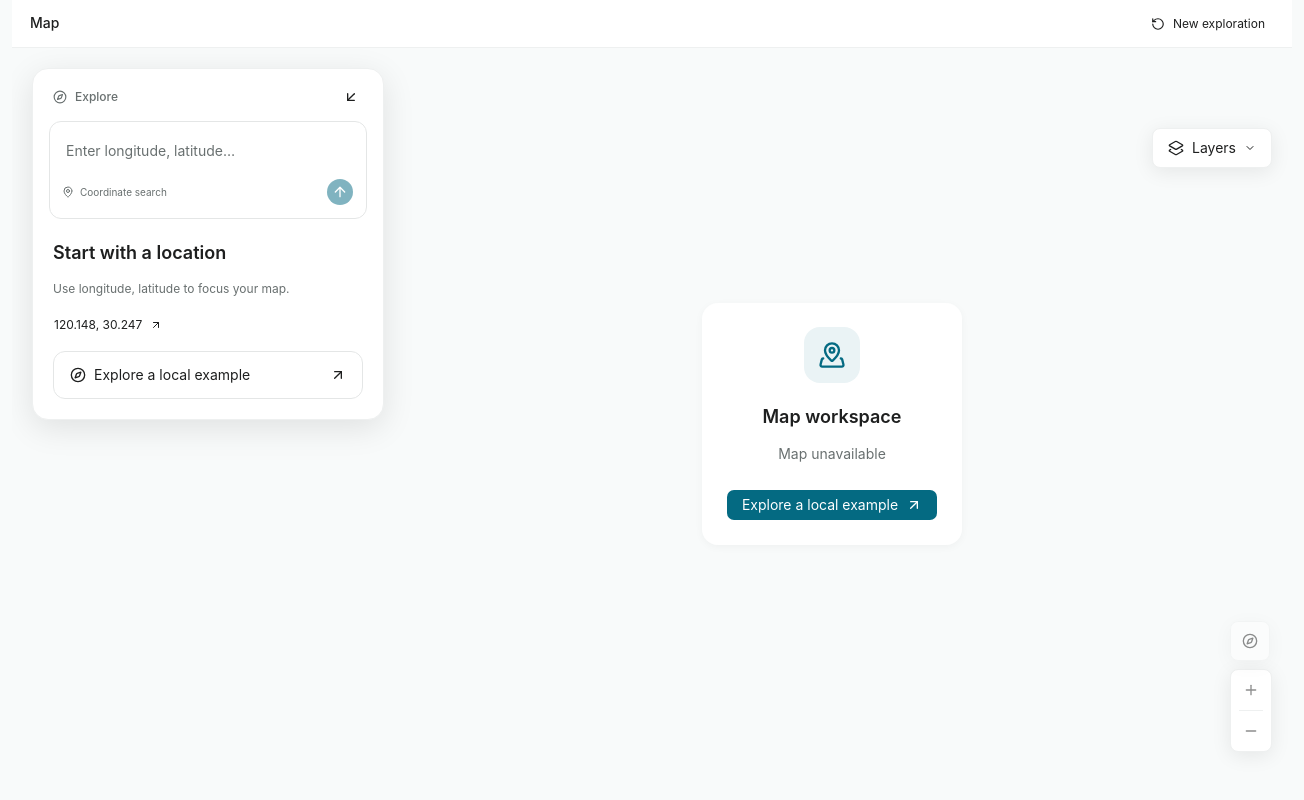
Test case: supports panel/layers dismissal and clears sample data on exit
Click the button "Explore a local example" below "Start with a location" at x=208, y=375, box [53,351,363,399]
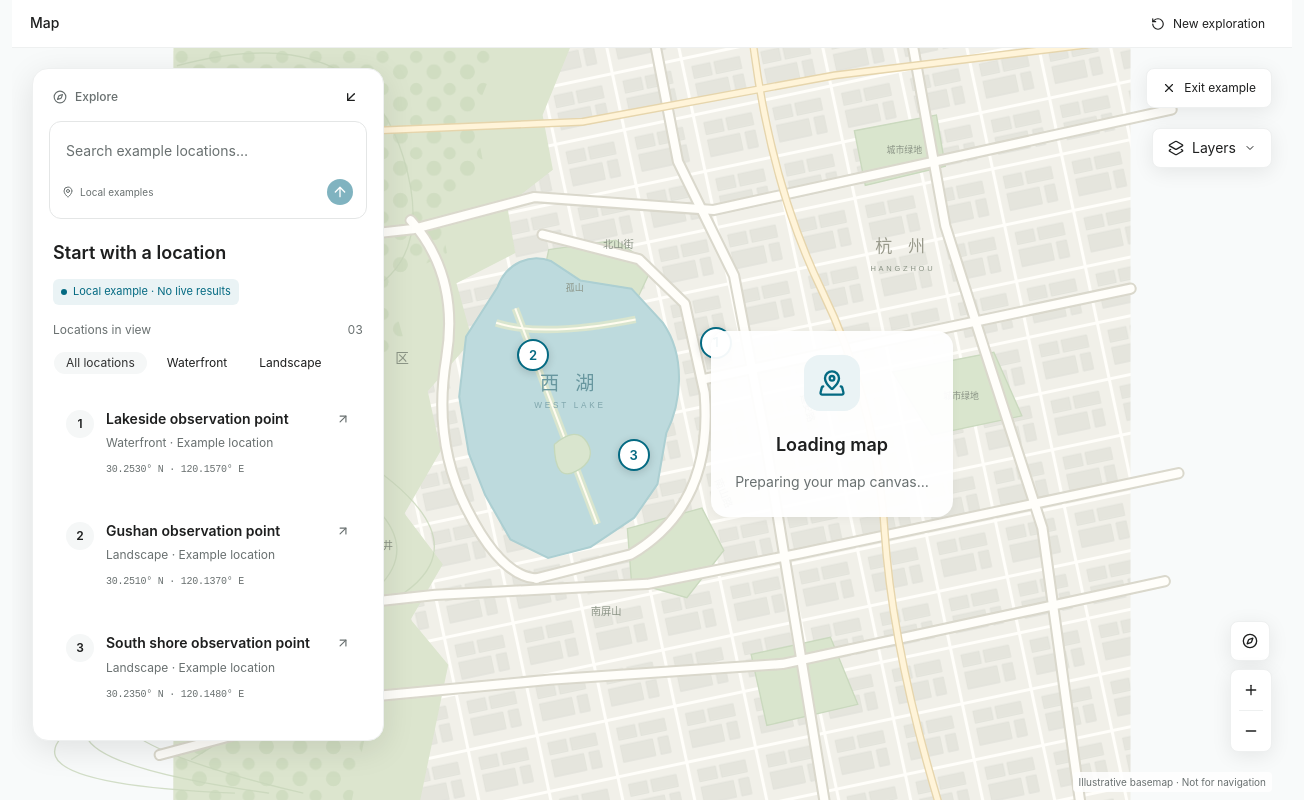
Click the button named "Collapse exploration panel" at x=351, y=97, box [339,85,363,109]
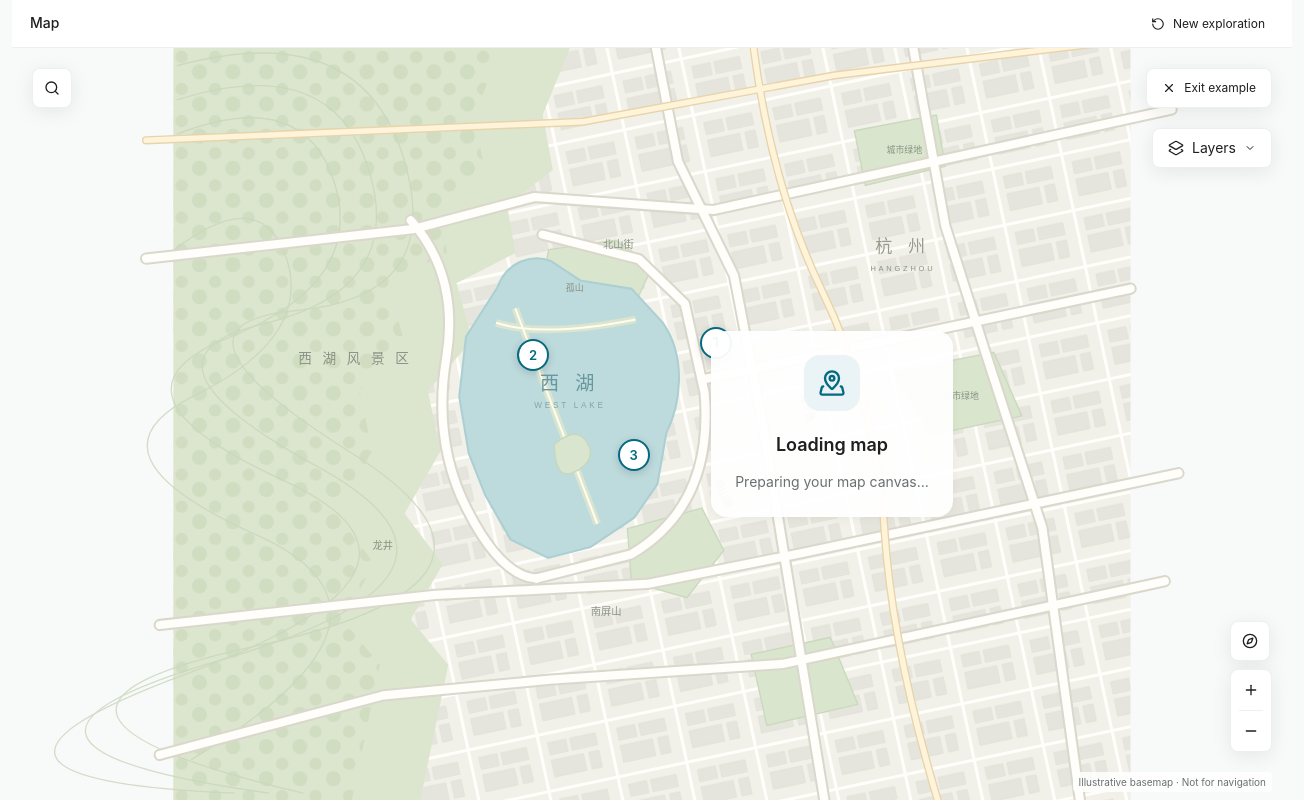
Click the button named "Open exploration panel" at x=52, y=88, box [32,68,72,108]
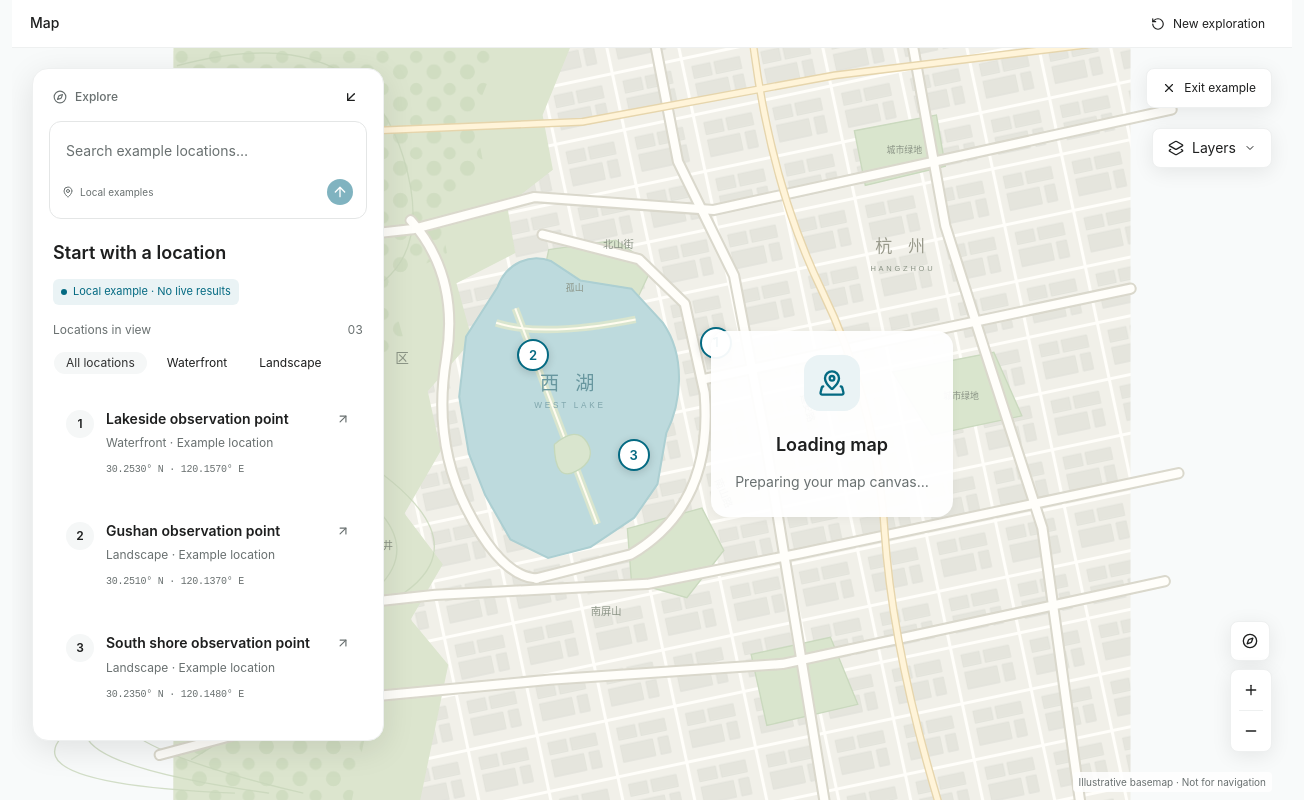
Click the button "Layers" at x=1212, y=148, box [1152,128,1272,168]
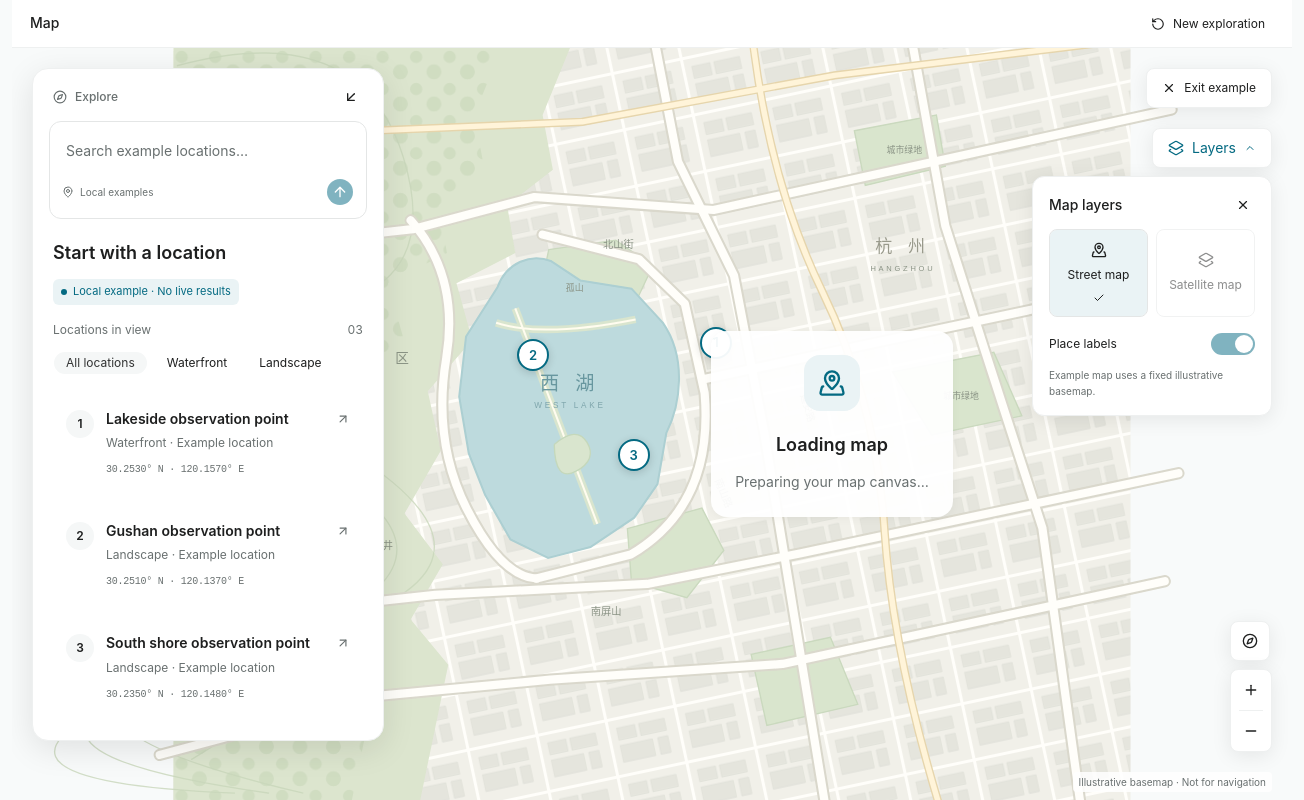
Now the button "Satellite map" is disabled, box [1156,229,1255,317]
Click the button named "Close map layers" at x=1243, y=205, box [1231,193,1255,217]
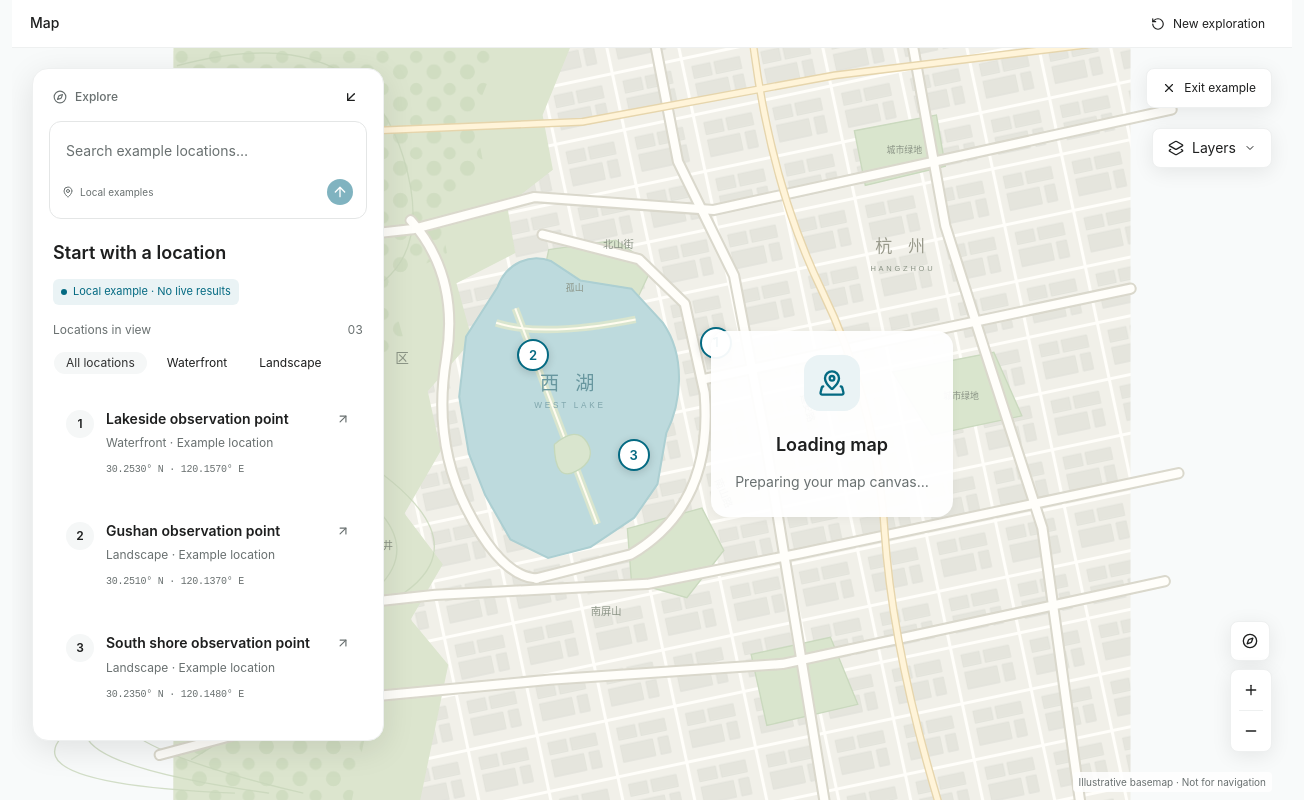
Click the button "Exit example" at x=1209, y=88, box [1146,68,1272,108]
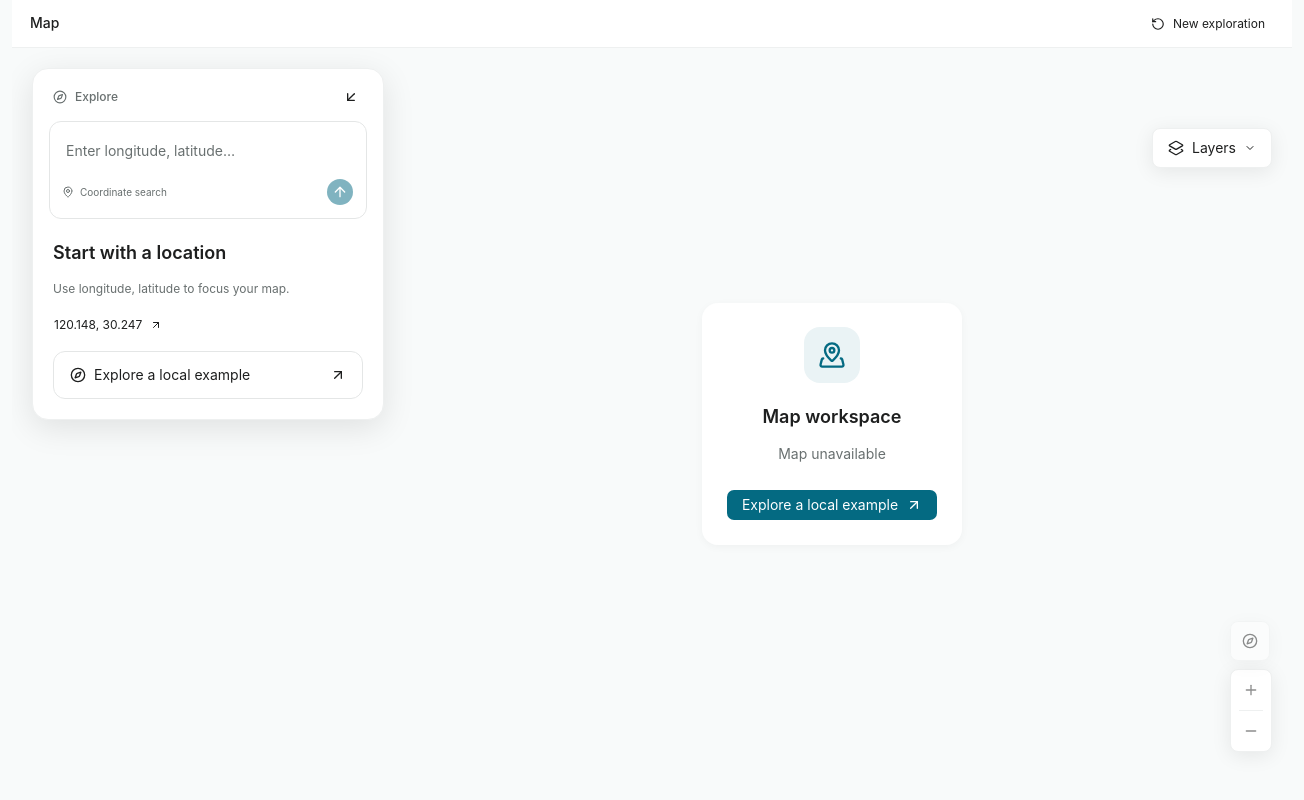
Now the text "Map unavailable" is shown, box [778,445,886,462]
